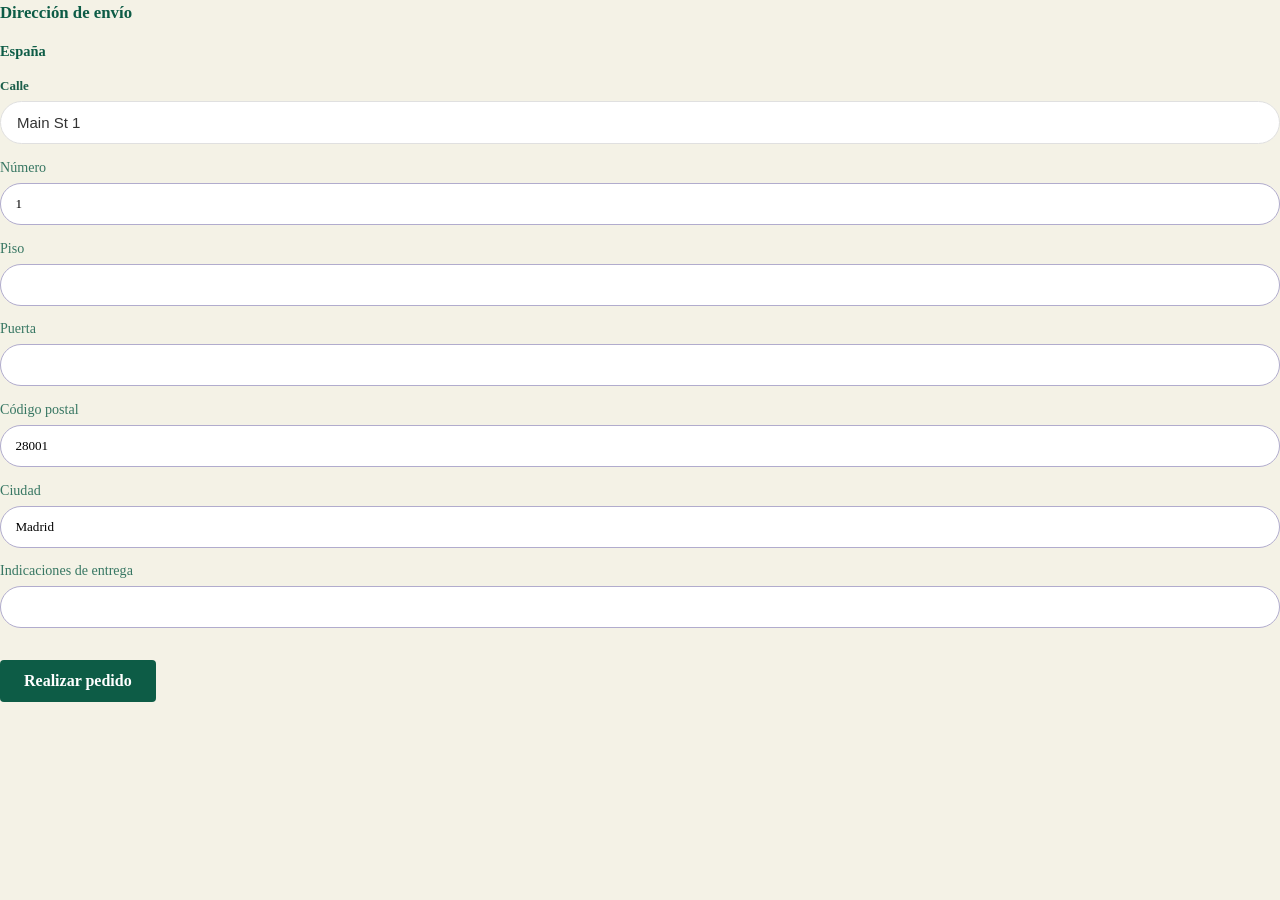
CheckoutConfirmButton › on 409 (price change), shows price change dialog
The width and height of the screenshot is (1280, 900).
Step 1. Click the button "Realizar pedido" → click(78, 681), box [0,660,156,702]
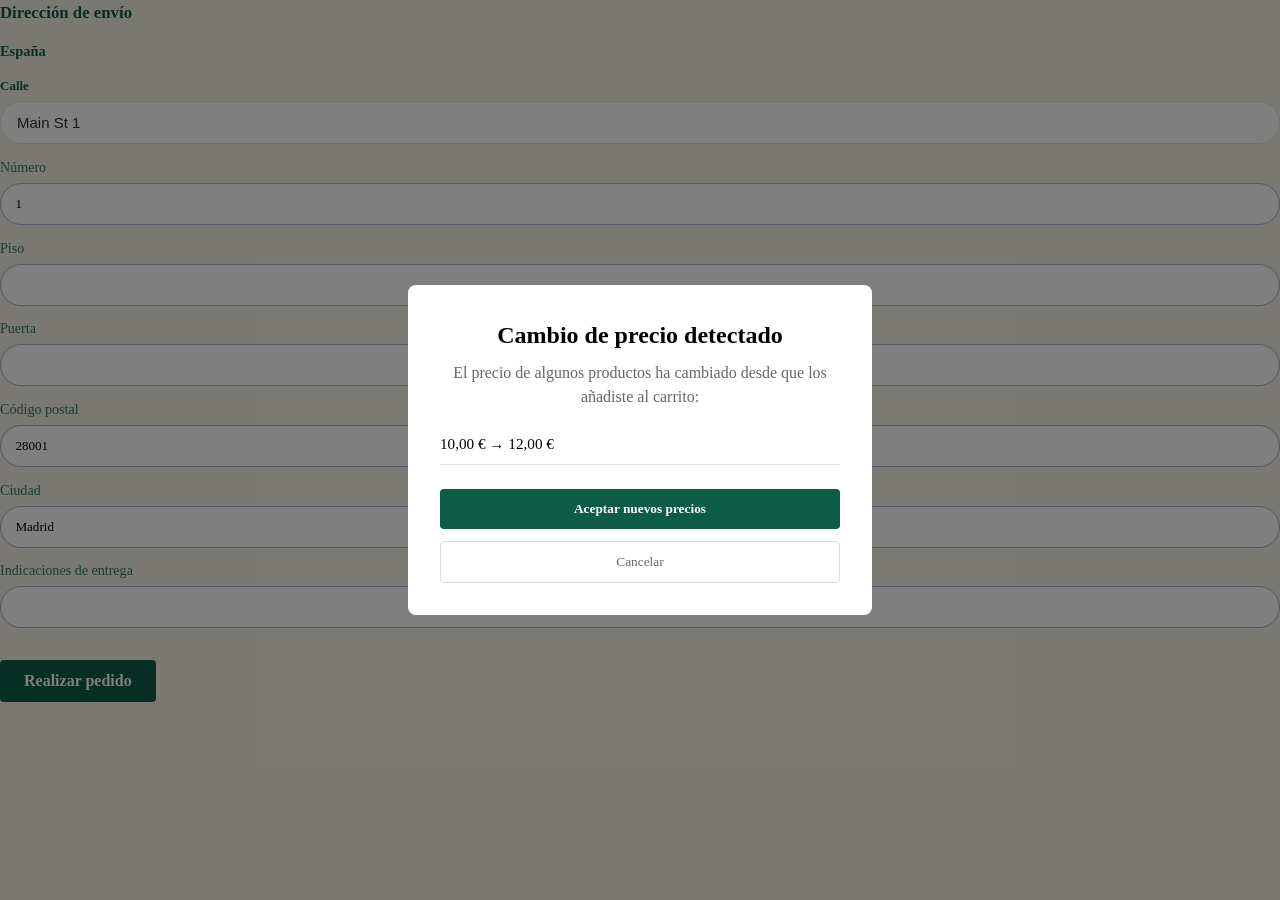
Expected: the heading "Cambio de precio detectado" is shown, [497,322,783,348]
